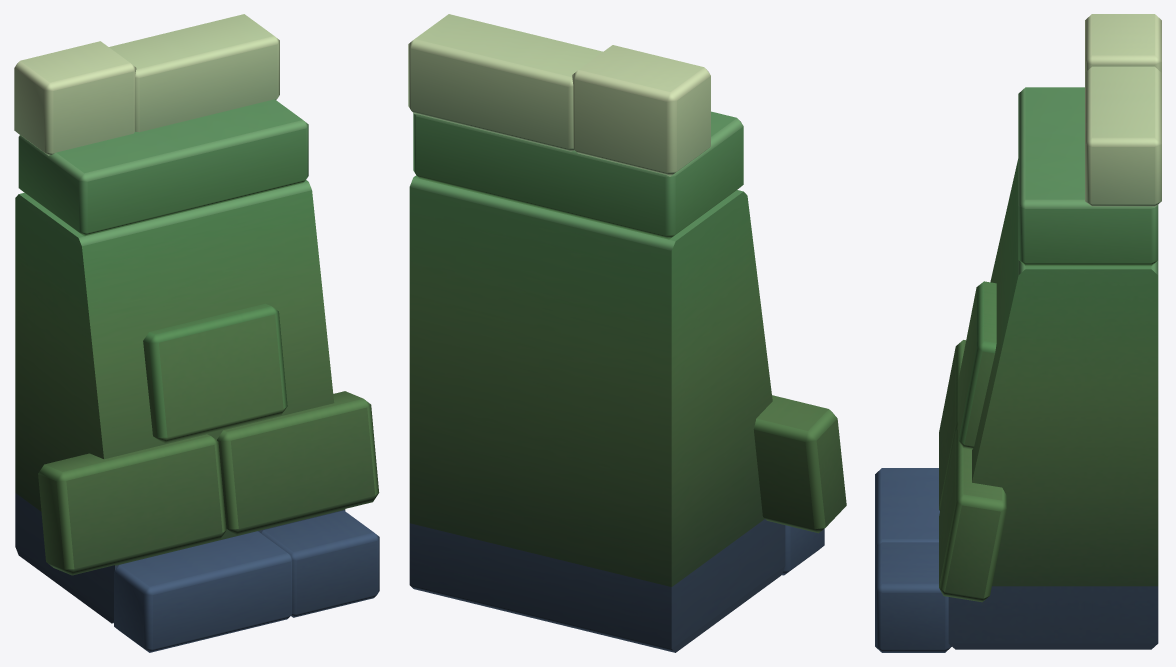
The model's file is wall_straight_01.fbx.
3 views of the same model, side by side, from view 1: azimuth 30°, elevation 25°; view 2: azimuth 150°, elevation 25°; view 3: azimuth 270°, elevation 25° (orthographic). The views are drawn at different scales.
Visible parts, largest first — view 1: wall_straight_01; view 2: wall_straight_01; view 3: wall_straight_01.
Boxes of the visible parts, bbox=[...] form: wall_straight_01: bbox=[14, 14, 379, 652]; wall_straight_01: bbox=[408, 14, 846, 652]; wall_straight_01: bbox=[875, 14, 1161, 652].
Size of the model in its own units: 273 by 413 by 205.
